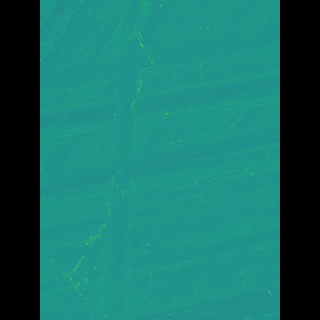Loch: (109, 0, 147, 320), (168, 181, 248, 319)
